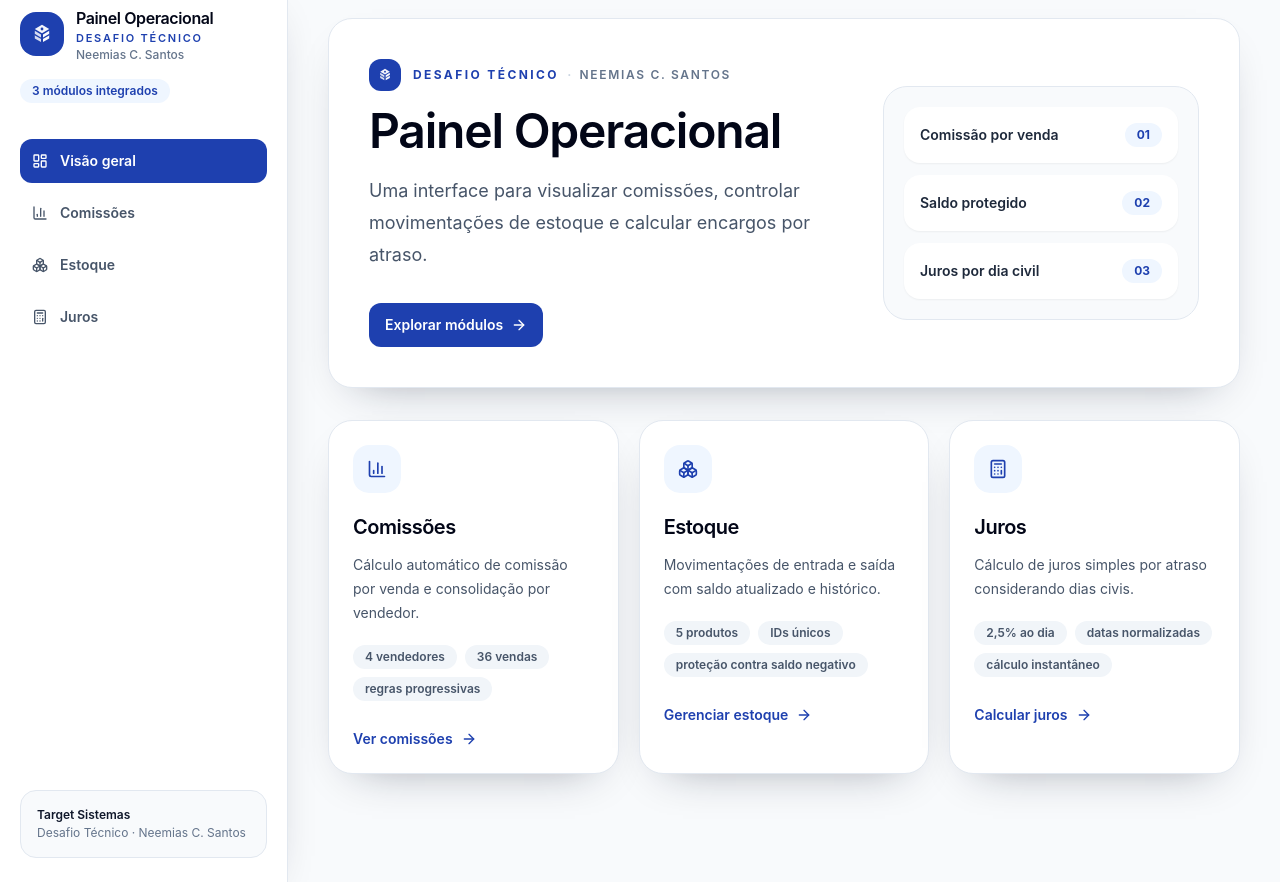
Test: interface web › exibe os valores consolidados de comissão aprovados
Click the button "Comissões" at (144, 212), box [20,190,267,234]
(page scrolled)
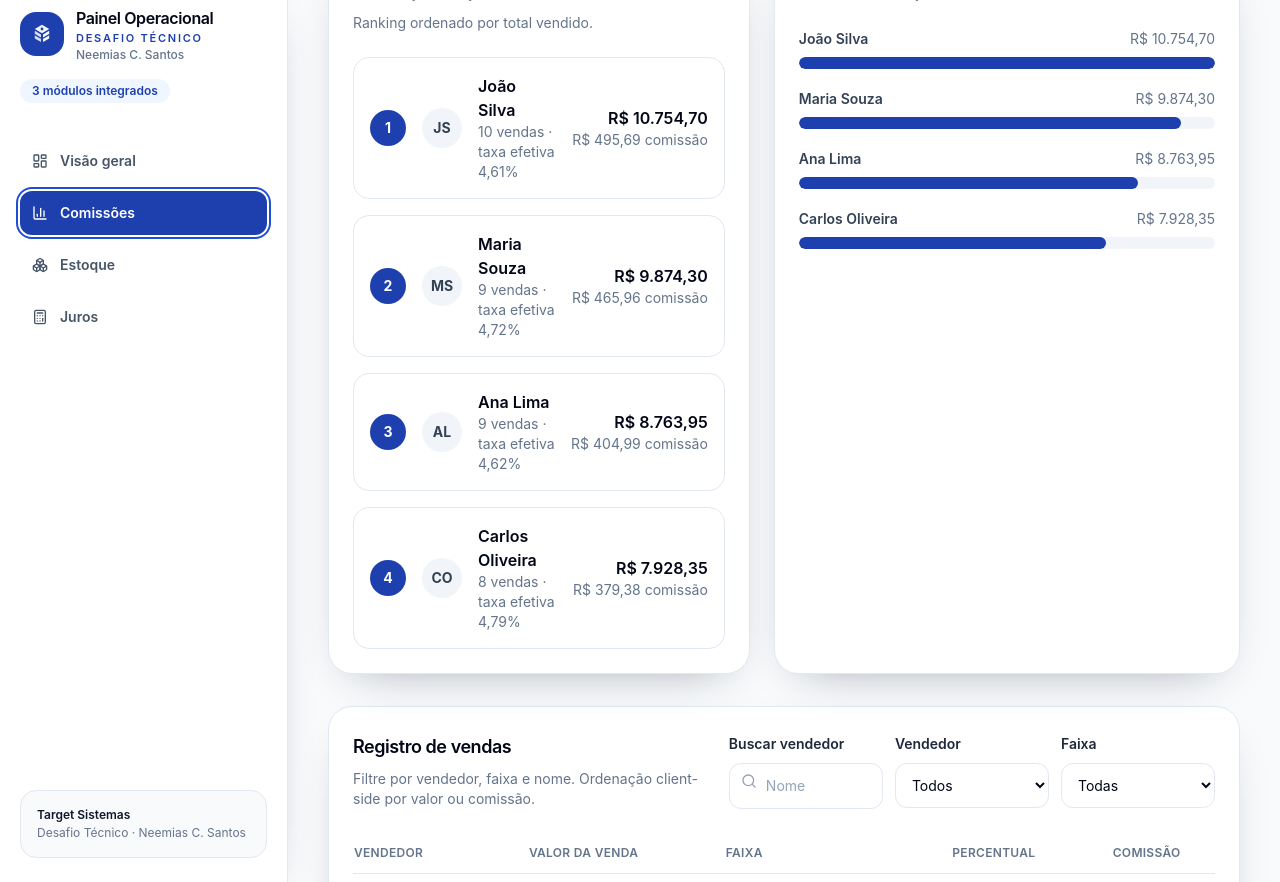
Check: the element with test id "seller-João Silva" shows "R$ 10.754,70", box [608,108,708,128]
Check: the element with test id "seller-João Silva" shows "R$ 495,69", box [572,131,641,148]
Check: the element with test id "seller-Maria Souza" shows "R$ 9.874,30", box [614,266,708,286]
